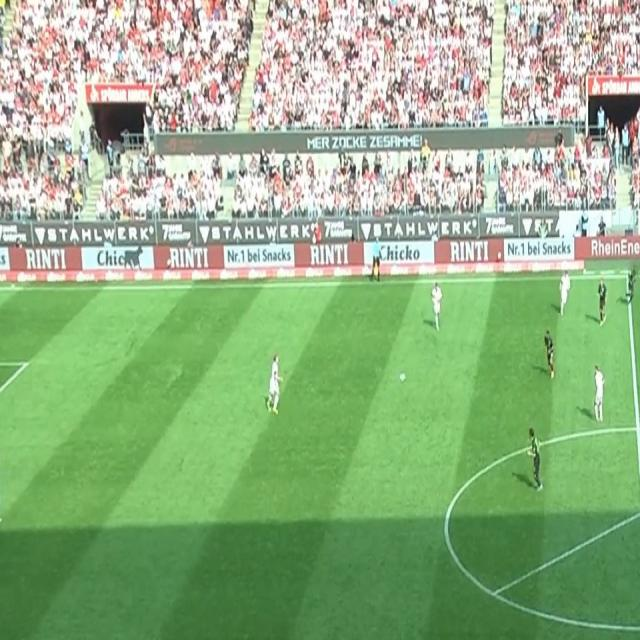ball: (398, 371, 406, 384)
